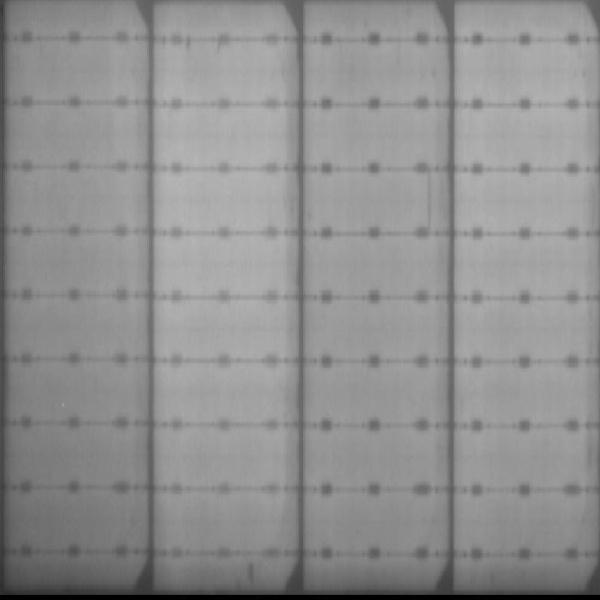scratch: (424, 170, 437, 234), (242, 557, 264, 594)
